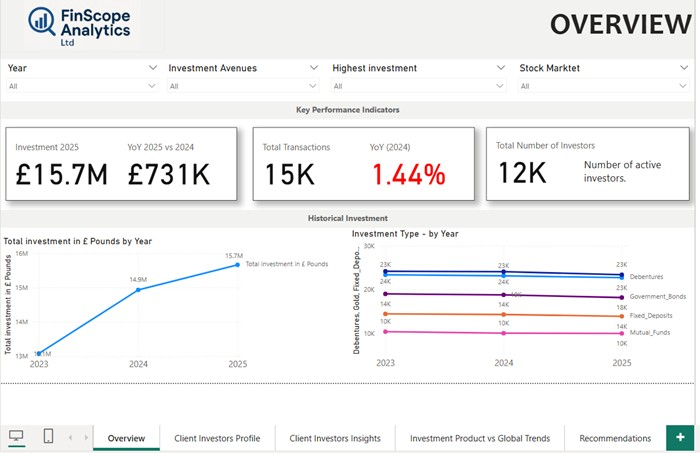

The dashboard page shown, as its layout file describes it:
{"tool":"powerbi","page":{"name":"Overview","canvas":[1280,720],"ordinal":0},"visuals":[{"type":"textbox","box":[0,0,1280,122.9],"z":0},{"type":"image","box":[0,0,301.4,110],"z":1000},{"type":"lineChart","fields":{"Y":["Sum(finance_project customer_investment.amount_investment)","select"],"Category":["finance_project customer_investment.Year"]},"box":[0,447.1,620,272.9],"z":2000},{"type":"lineChart","title":"Investment Type - by Year","fields":{"Y":["select","Sum(finance_project finance_trends.Debentures)","Sum(finance_project finance_trends.Gold)","Sum(finance_project finance_trends.Fixed_Deposits)","Sum(finance_project finance_trends.Government_Bonds)","Sum(finance_project finance_trends.Mutual_Funds)"],"Category":["finance_project finance_trends.Year"]},"box":[642.9,434.3,637.1,284.3],"z":3000},{"type":"slicer","fields":{"Values":["finance_project finance_trends.Year"]},"box":[0,123.9,301.4,87.1],"z":4000},{"type":"slicer","fields":{"Values":["finance_project finance_trends.Highest_investment"]},"box":[598.6,123.9,344.3,87.1],"z":5000},{"type":"slicer","fields":{"Values":["finance_project finance_trends.Investment_Avenues"]},"box":[297.1,123.9,301.4,87.1],"z":6000},{"type":"slicer","fields":{"Values":["finance_project finance_trends.Stock_Marktet"]},"box":[942.9,123.9,337.1,87.1],"z":7000},{"type":"textbox","box":[0,401.4,1280,32.9],"z":8000},{"type":"textbox","box":[0,200,1280,32.9],"z":9000},{"type":"cardVisual","fields":{"Data":["finance_project customer_investment.TotalTransactions","finance_project customer_investment.YoY 2025 vs 2024"]},"box":[465.1,248.6,408.9,135],"z":10000},{"type":"cardVisual","fields":{"Data":["finance_project customer_investment.Investment 2025","finance_project customer_investment.Investment YoY 2025 vs 2024"]},"box":[9.4,248.6,426.3,135],"z":11000},{"type":"cardVisual","fields":{"Data":["finance_project finance_trends.Total_Records"]},"box":[895.4,248.6,374.2,135],"z":12000},{"type":"textbox","box":[1070.5,299.4,171.1,69.5],"z":13000}]}

Visuals, with their boxes on the page's 1280x720 design canvas (x1, y1, x2, y2). These are canvas units, not pixel positions in the 700x453 screenshot, which may show the page scaled, cropped or inside an application window:
textbox: [left=0, top=0, right=1280, bottom=123]
image: [left=0, top=0, right=301, bottom=110]
lineChart - Sum(finance_project customer_investment.amount_investment) x select: [left=0, top=447, right=620, bottom=720]
"Investment Type - by Year" lineChart: [left=643, top=434, right=1280, bottom=719]
slicer - finance_project finance_trends.Year: [left=0, top=124, right=301, bottom=211]
slicer - finance_project finance_trends.Highest_investment: [left=599, top=124, right=943, bottom=211]
slicer - finance_project finance_trends.Investment_Avenues: [left=297, top=124, right=598, bottom=211]
slicer - finance_project finance_trends.Stock_Marktet: [left=943, top=124, right=1280, bottom=211]
textbox: [left=0, top=401, right=1280, bottom=434]
textbox: [left=0, top=200, right=1280, bottom=233]
cardVisual - finance_project customer_investment.TotalTransactions x finance_project customer_investment.YoY 2025 vs 2024: [left=465, top=249, right=874, bottom=384]
cardVisual - finance_project customer_investment.Investment 2025 x finance_project customer_investment.Investment YoY 2025 vs 2024: [left=9, top=249, right=436, bottom=384]
cardVisual - finance_project finance_trends.Total_Records: [left=895, top=249, right=1270, bottom=384]
textbox: [left=1070, top=299, right=1242, bottom=369]
